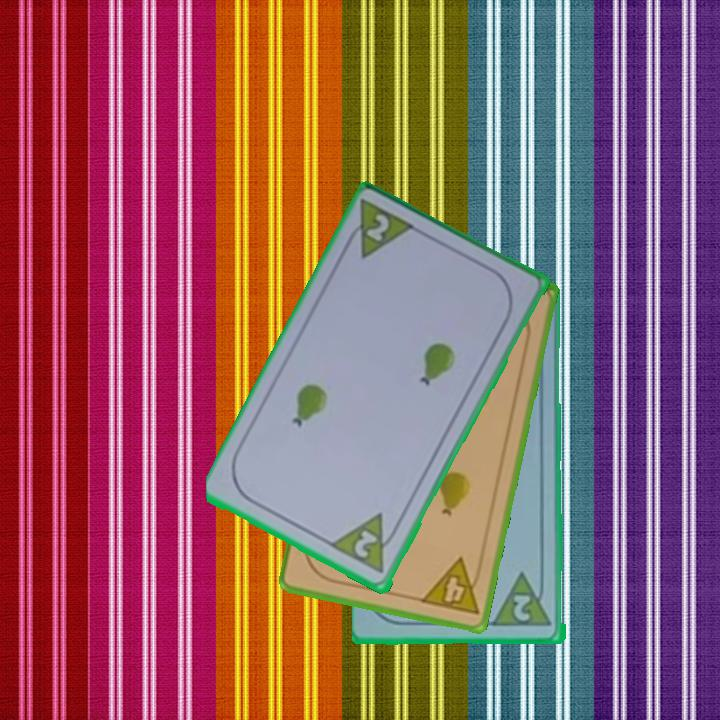2p: (339, 197, 419, 263), (328, 510, 404, 578), (492, 571, 555, 630)
4p: (417, 554, 486, 618)
